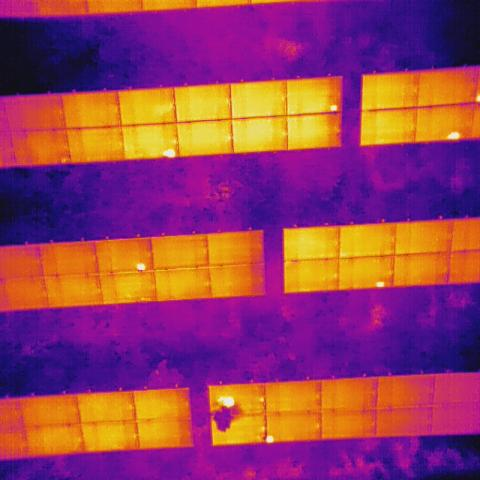fault: (216, 394, 235, 410), (162, 147, 177, 160), (447, 130, 461, 142), (134, 260, 147, 272), (266, 432, 276, 444), (329, 104, 338, 114), (376, 280, 385, 289), (475, 91, 480, 103)
